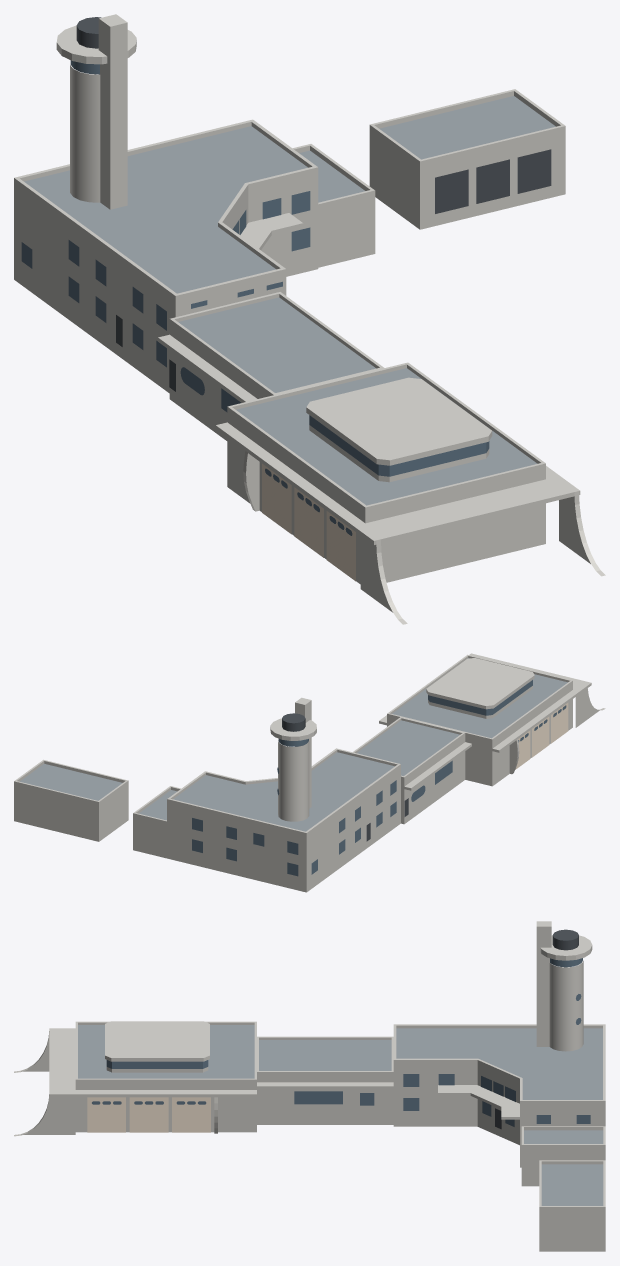
The model's file is cle-coast-guard-station.glb.
3 renders of one model, top to bottom at view 1: azimuth 30°, elevation 25°; view 2: azimuth 150°, elevation 25°; view 3: azimuth 270°, elevation 25°, orthographic. The views are drawn at different scales.
Visible parts, largest first — view 1: Cleveland Harbor Coast Guard Station; view 2: Cleveland Harbor Coast Guard Station; view 3: Cleveland Harbor Coast Guard Station.
Part boxes in pixels (<box>): Cleveland Harbor Coast Guard Station: <box>14,14,605,624</box>; Cleveland Harbor Coast Guard Station: <box>14,653,605,892</box>; Cleveland Harbor Coast Guard Station: <box>14,921,605,1251</box>.
Size of the model in its own units: 48.67 by 23 by 67.04.
